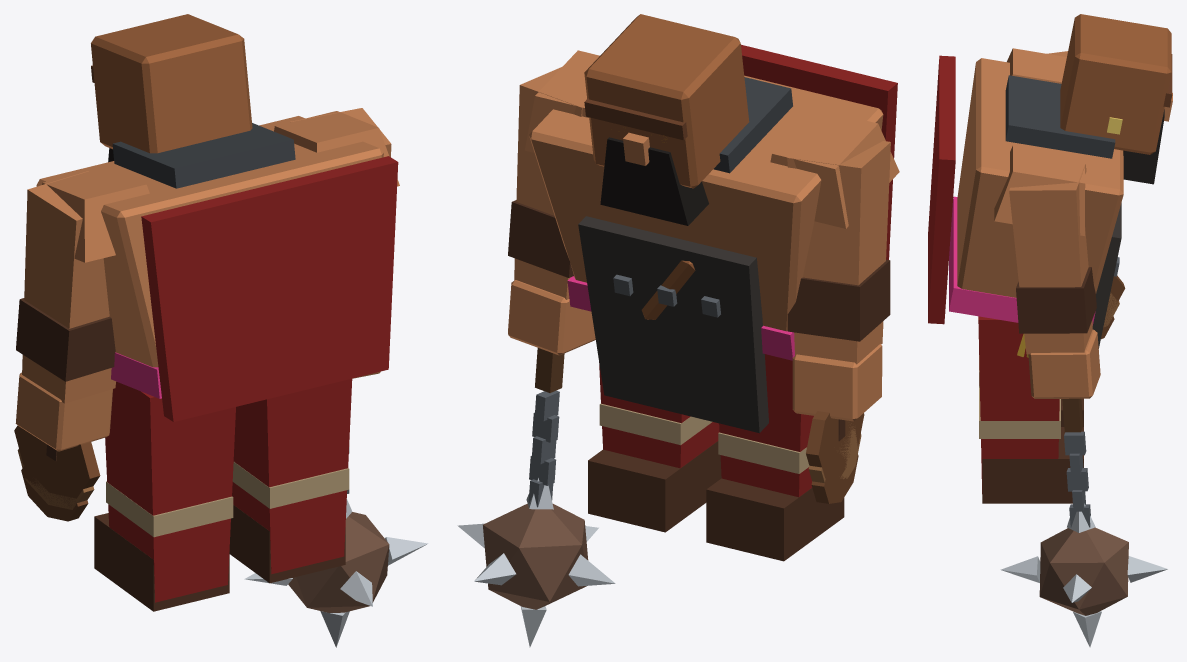
The model's file is EN_Gorm.fbx.
3 renders of one model, left to right at view 1: azimuth 30°, elevation 25°; view 2: azimuth 150°, elevation 25°; view 3: azimuth 270°, elevation 25°, orthographic. The views are drawn at different scales.
Visible parts, largest first — view 1: Cape, LegL, Head, LegR, Body, ArmL, Collar, BracerL, Ball, HandL, ShoulderL, BootL (+10 smaller); view 2: Apron, Body, Head, ArmL, BootR, Ball, BootL, ShoulderL, LegL, Beard, BracerL, Cape (+20 smaller); view 3: Body, Head, ArmR, LegR, Ball, Cape, Collar, BootR, BracerR, ShoulderR, HandR, Sash (+11 smaller).
Part boxes in pixels (x1,y1,x2,y2): Cape: [141, 156, 398, 421]; LegL: [105, 381, 235, 602]; Head: [91, 14, 252, 153]; LegR: [232, 378, 352, 574]; Body: [36, 116, 383, 367]; ArmL: [22, 171, 116, 403]; Collar: [112, 123, 295, 188]; BracerL: [16, 298, 115, 381]; Ball: [288, 512, 389, 612]; HandL: [15, 372, 112, 451]; ShoulderL: [42, 167, 149, 262]; BootL: [94, 513, 229, 611]; Apron: [578, 216, 768, 433]; Body: [529, 75, 883, 331]; Head: [584, 14, 749, 188]; ArmL: [787, 141, 890, 364]; BootR: [588, 441, 721, 532]; Ball: [483, 503, 588, 609]; BootL: [706, 478, 844, 561]; ShoulderL: [770, 108, 899, 228]; LegL: [719, 354, 813, 497]; Beard: [600, 137, 708, 225]; BracerL: [787, 259, 890, 341]; Cape: [741, 44, 897, 259]; Body: [957, 58, 1123, 297]; Head: [1060, 14, 1171, 154]; ArmR: [1009, 164, 1092, 354]; LegR: [978, 316, 1059, 493]; Ball: [1039, 527, 1128, 615]; Cape: [928, 55, 955, 324]; Collar: [1005, 75, 1115, 158]; BootR: [982, 427, 1083, 503]; BracerR: [1016, 267, 1096, 333]; ShoulderR: [994, 145, 1085, 235]; HandR: [1028, 329, 1100, 398]; Sash: [949, 196, 1095, 325].
Bounding box in the file's own units: 2.44 × 1.49 × 3.71.
